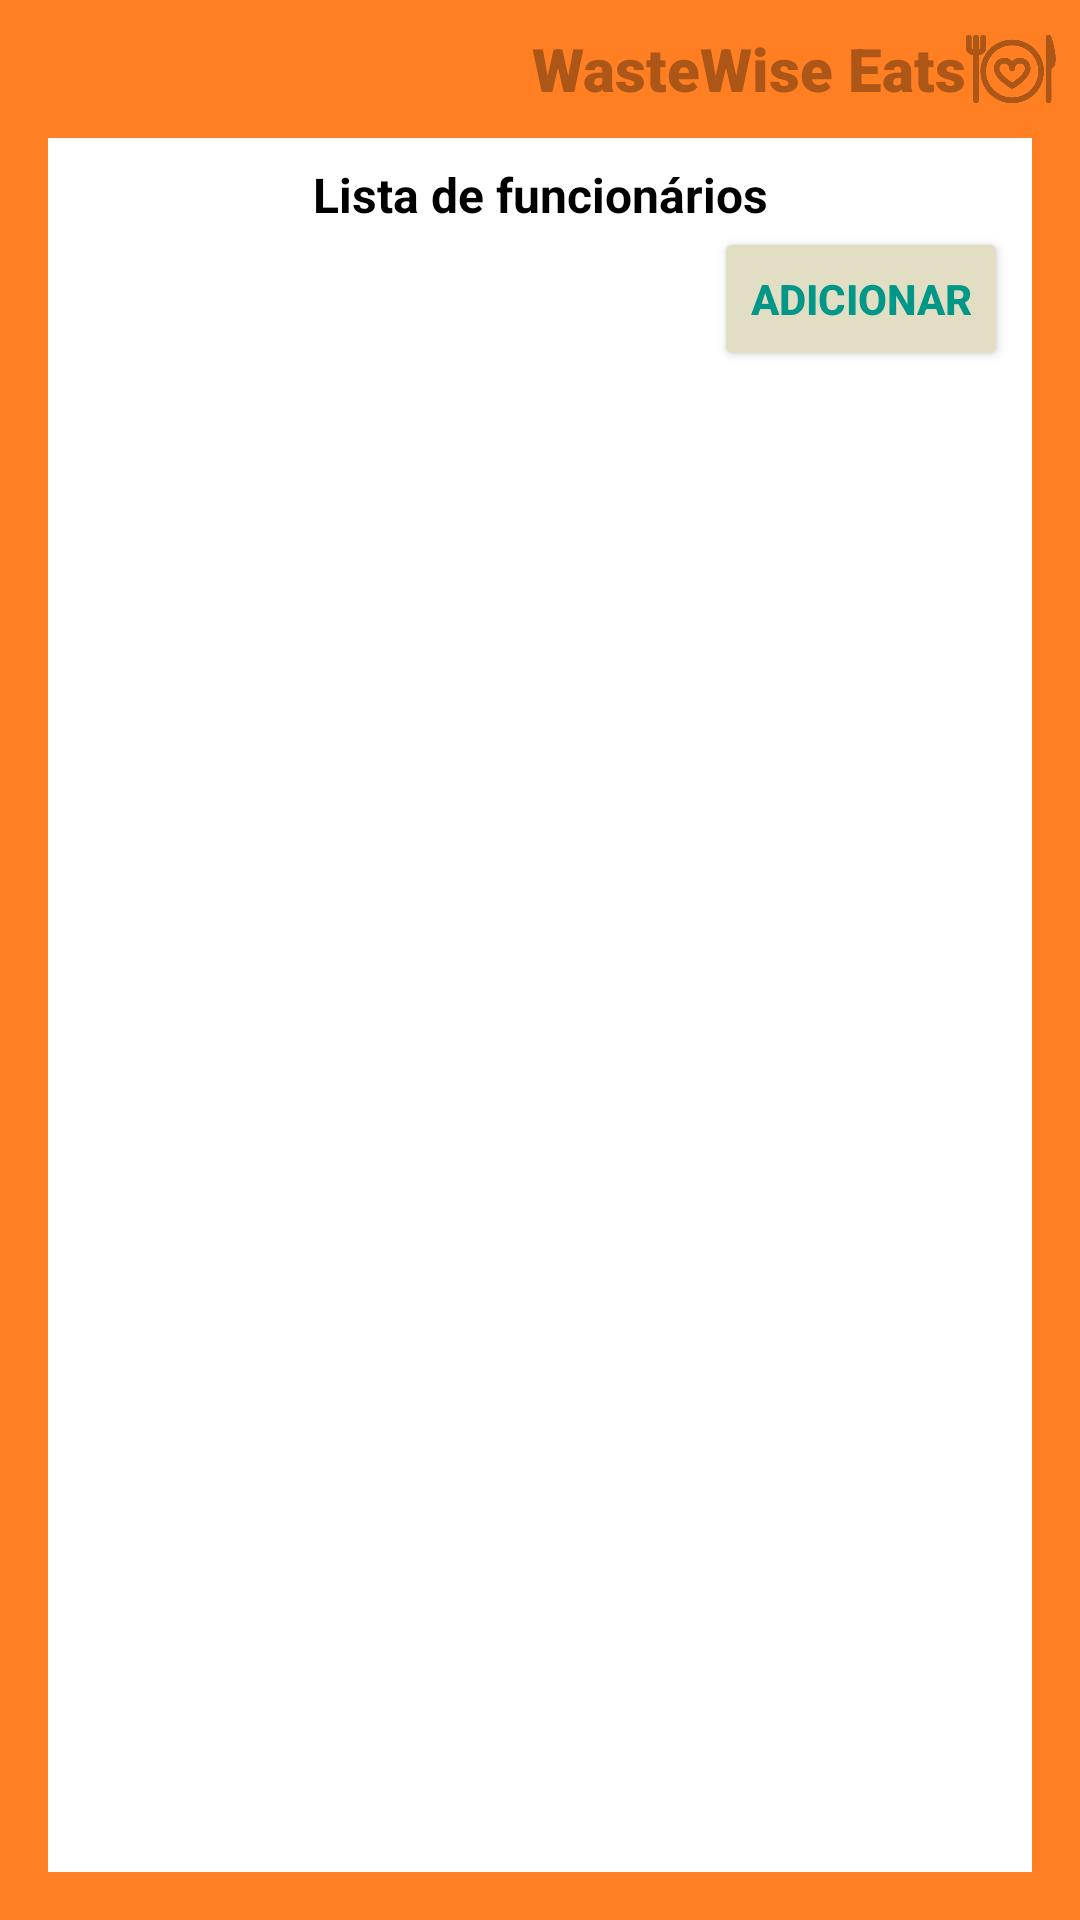

Named icons in this screenshot (1080px x 1920px) and their bounding boxes, (x1, y1, x2, y2):
prato: (966, 35, 1056, 103)
